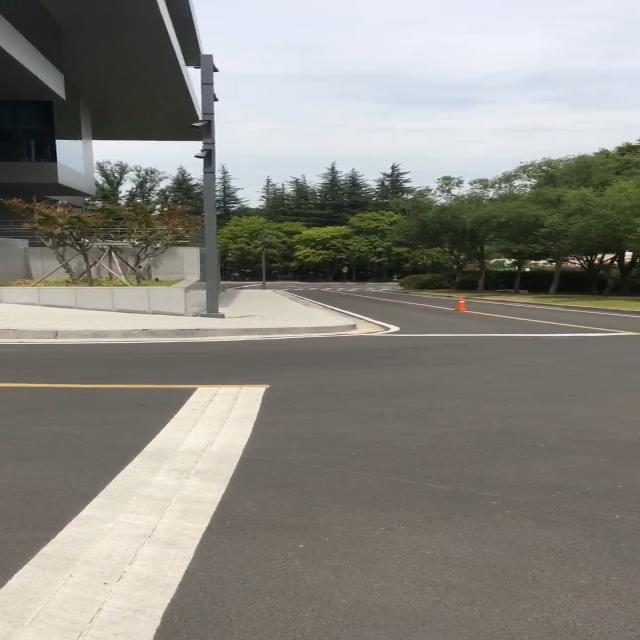obstacle: (196, 56, 228, 317), (447, 293, 473, 311)
road: (0, 288, 640, 640)
